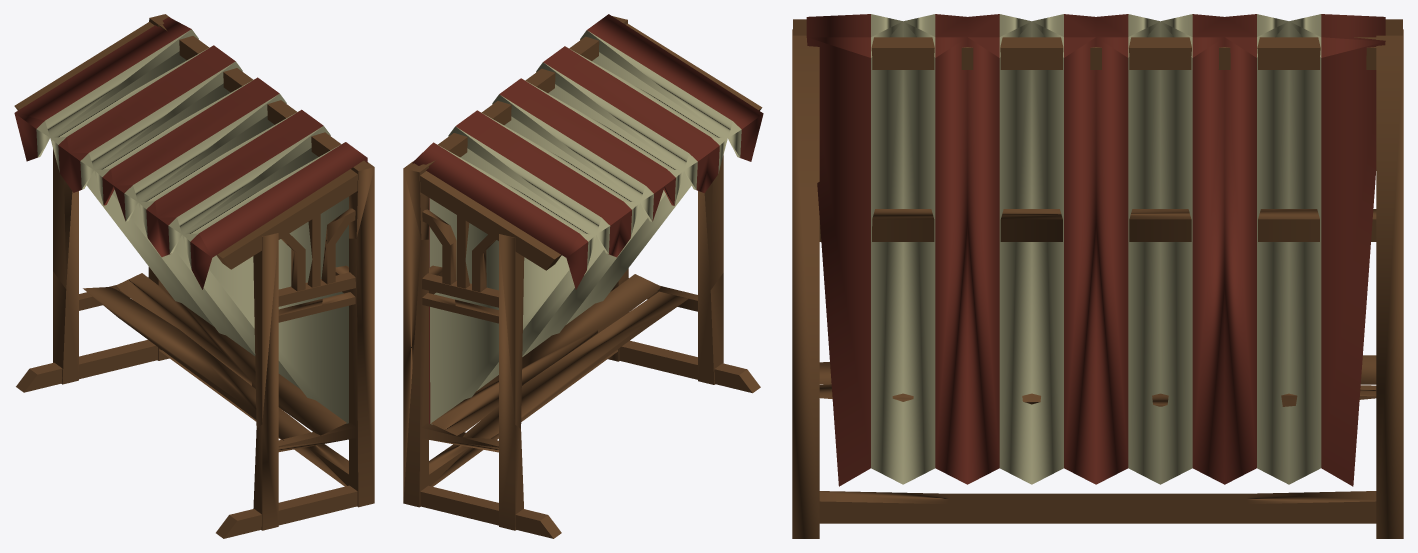
Rendered from merchant_stall-mid.glb.
3 views of the same model, side by side, from view 1: azimuth 30°, elevation 25°; view 2: azimuth 150°, elevation 25°; view 3: azimuth 270°, elevation 25° (orthographic). The views are drawn at different scales.
Visible parts, largest first — view 1: MarketStand_2; view 2: MarketStand_2; view 3: MarketStand_2.
Part boxes in pixels (x1,y1,x2,y2): MarketStand_2: (14, 14, 374, 538); MarketStand_2: (403, 14, 763, 538); MarketStand_2: (792, 14, 1403, 538).
Size of the model in its own units: 0.5172 by 1.04 by 1.15.
